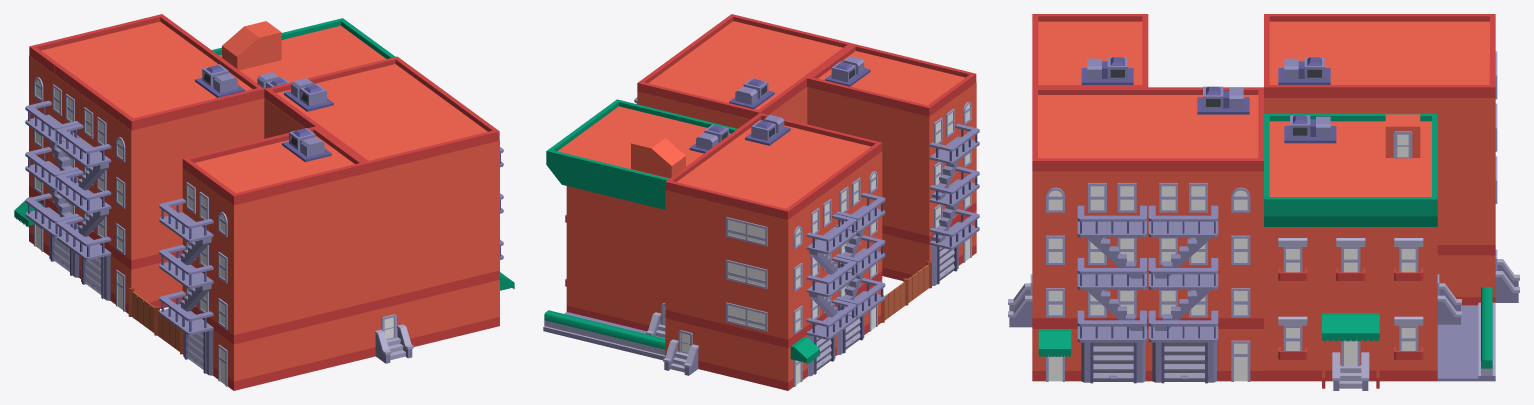
Rendered from CityBlock_003.fbx.
3 views of the same model, side by side, from view 1: azimuth 30°, elevation 25°; view 2: azimuth 150°, elevation 25°; view 3: azimuth 270°, elevation 25° (orthographic). The views are drawn at different scales.
Parts seen in each view (by area): view 1: mergedBlocks; view 2: mergedBlocks; view 3: mergedBlocks.
Boxes of the visible parts, <box> form: mergedBlocks: <box>14,14,514,390</box>; mergedBlocks: <box>543,14,979,390</box>; mergedBlocks: <box>1008,14,1519,390</box>.
Size of the model in its own units: 356 by 222 by 442.
